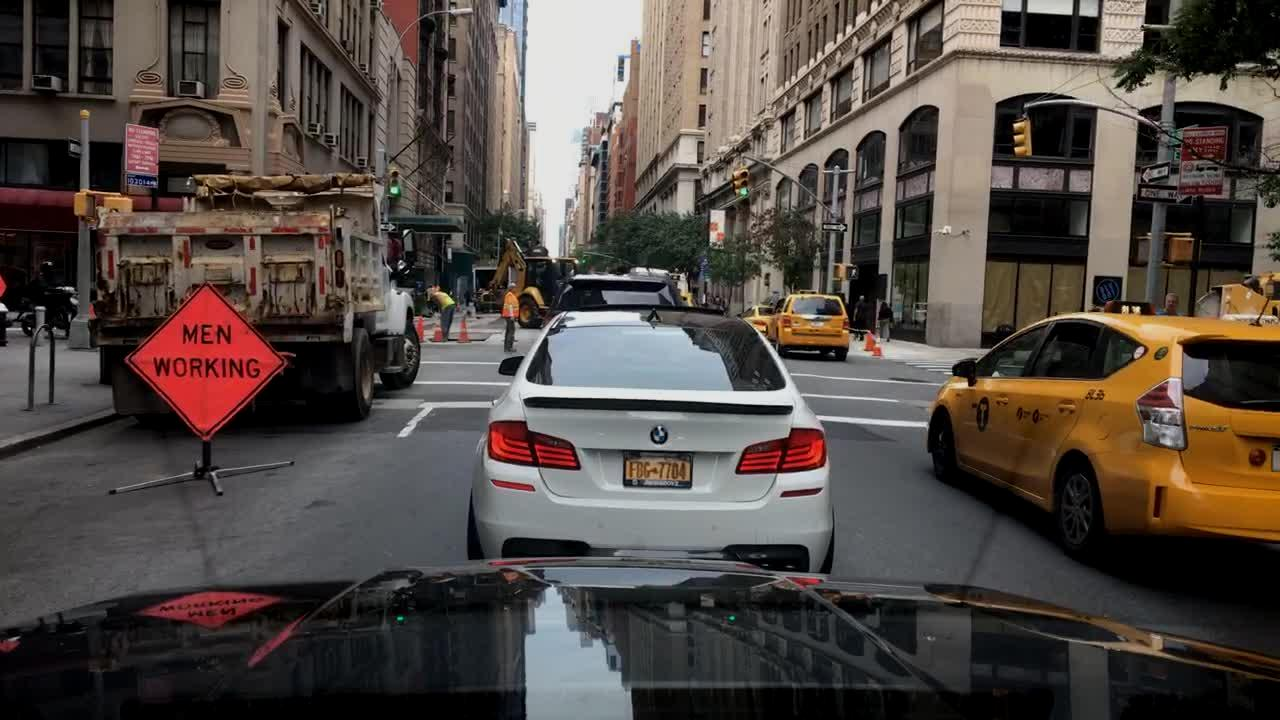bmw: (644, 421, 677, 453)
